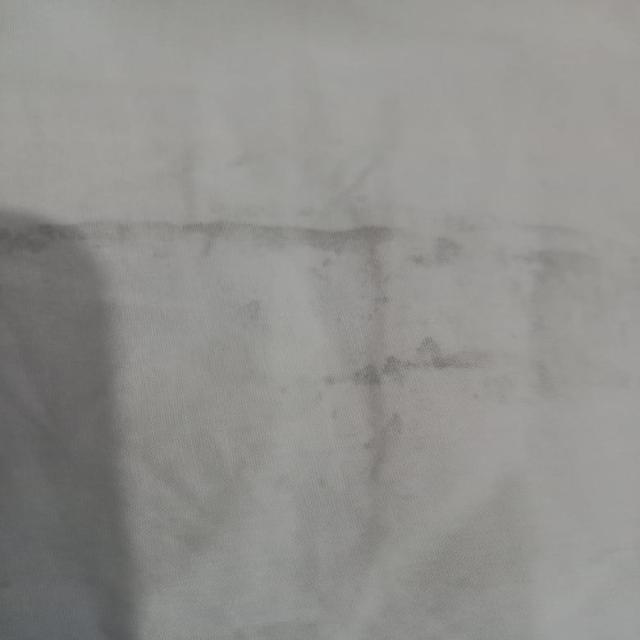stain: (0, 207, 597, 279), (304, 331, 524, 391), (359, 402, 411, 479)
